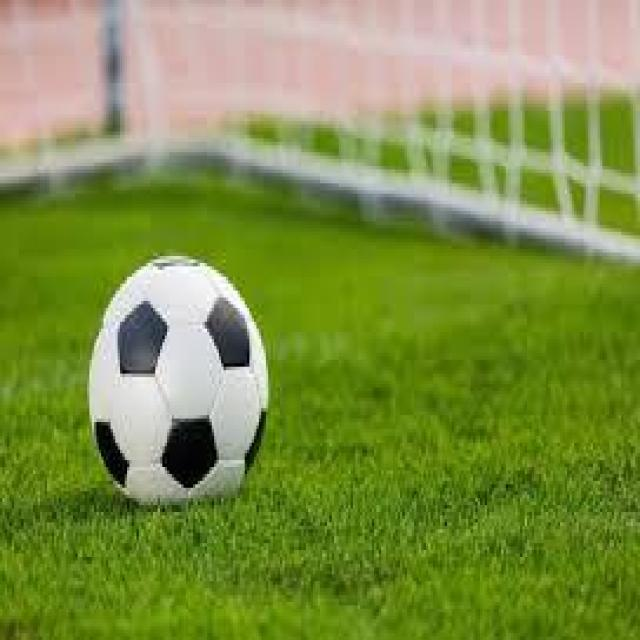Soccer Ball: (89, 253, 273, 505)
